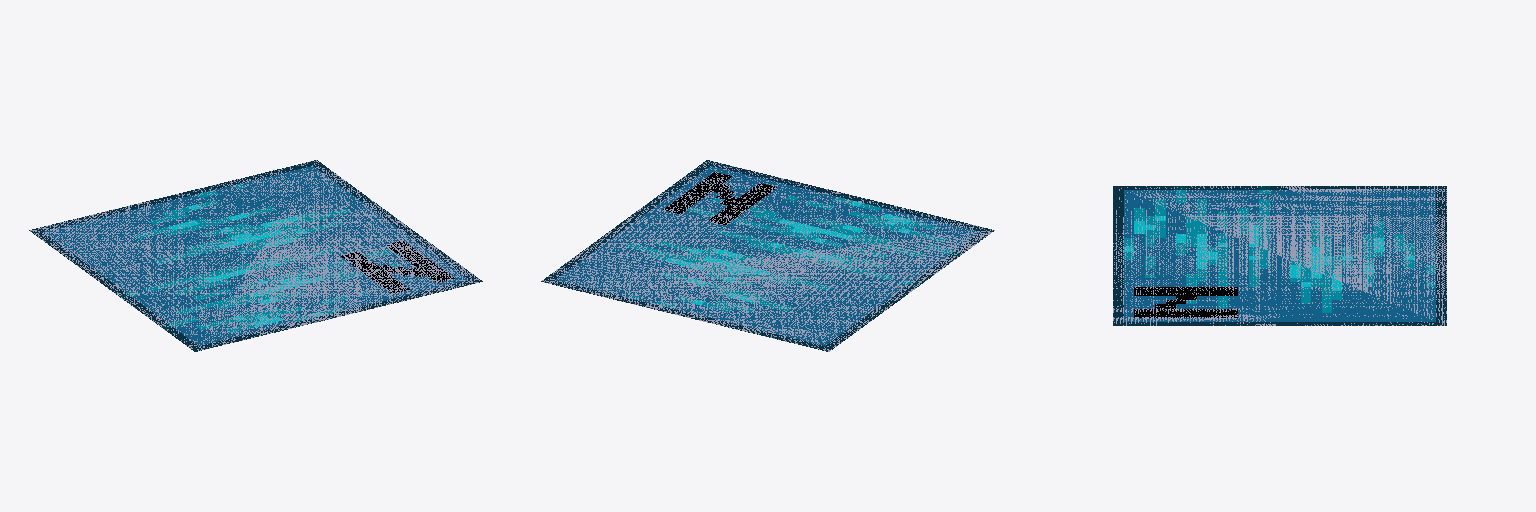
The picture shows the model from 3 angles: view 1: azimuth 30°, elevation 25°; view 2: azimuth 150°, elevation 25°; view 3: azimuth 270°, elevation 25°; orthographic projection.
Parts seen in each view (by area): view 1: Mesh1 Model; view 2: Mesh1 Model; view 3: Mesh1 Model.
Part boxes in pixels (x1,y1,x2,y2): Mesh1 Model: (29,160,482,351); Mesh1 Model: (541,160,994,351); Mesh1 Model: (1113,186,1446,325).
Size of the model in its own units: 32 by 0 by 32.
2 materials, 1 textured.